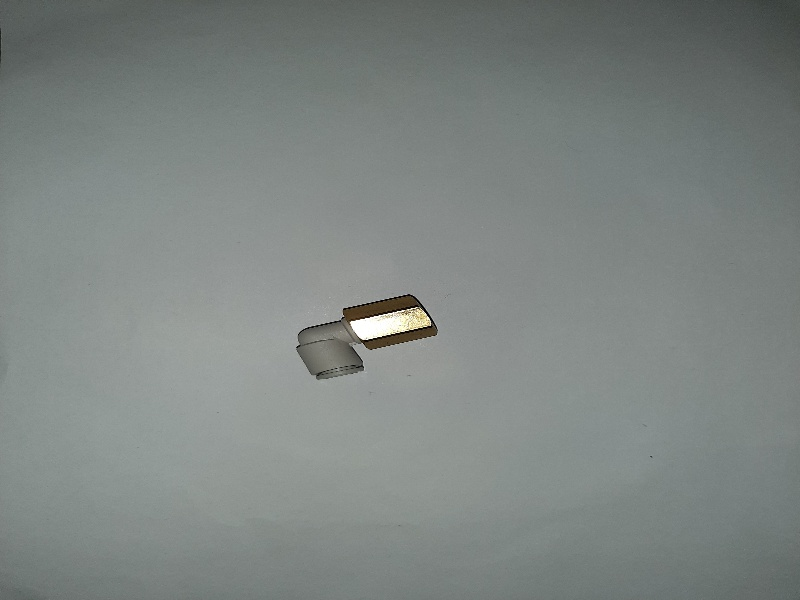Connector: (295, 291, 439, 385)
